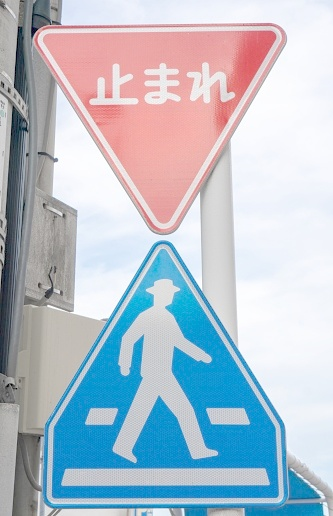Regulatory_sign_triangle: (29, 14, 300, 239)
